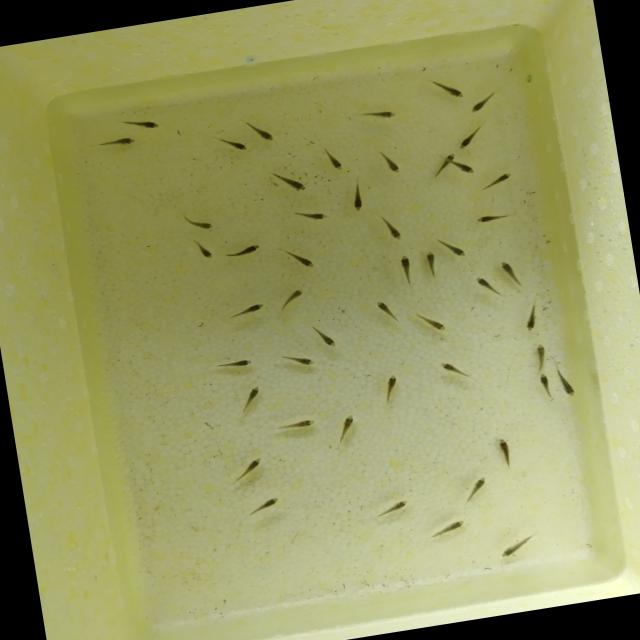fingerling: (276, 240, 322, 278), (349, 101, 406, 128), (286, 202, 337, 230), (217, 130, 256, 163), (472, 168, 518, 195), (270, 167, 310, 198), (229, 452, 267, 484), (493, 530, 536, 558), (329, 414, 362, 449), (471, 205, 518, 229), (376, 144, 406, 181), (247, 493, 285, 522), (460, 474, 494, 506), (456, 122, 492, 152), (428, 517, 471, 542), (371, 494, 412, 520), (379, 366, 407, 404), (190, 237, 222, 270), (318, 145, 348, 180), (496, 434, 524, 471), (390, 253, 418, 290), (437, 231, 468, 264), (280, 349, 324, 372), (278, 285, 311, 315), (515, 297, 544, 331), (310, 324, 340, 356), (246, 116, 278, 146), (470, 269, 499, 302), (417, 308, 447, 339), (227, 301, 270, 322), (241, 382, 270, 412), (498, 256, 522, 292), (346, 175, 368, 214), (278, 416, 322, 435), (222, 240, 260, 262), (213, 353, 256, 372), (418, 249, 442, 283), (469, 90, 502, 114), (432, 80, 468, 102), (127, 112, 160, 136), (555, 366, 577, 401), (183, 211, 215, 235), (376, 294, 398, 328), (433, 149, 459, 176), (440, 360, 470, 382), (100, 134, 142, 149), (384, 215, 404, 246), (532, 342, 550, 373), (452, 159, 479, 178), (540, 374, 552, 404)
